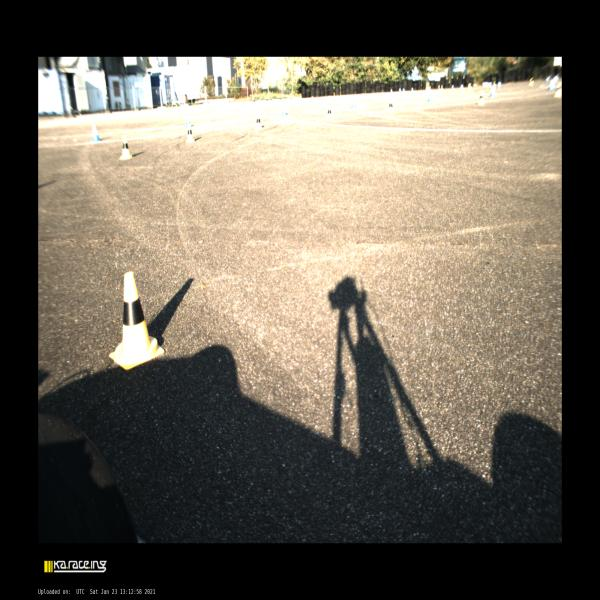blue_cone: (91, 125, 100, 141), (185, 114, 195, 128), (489, 85, 496, 97), (282, 103, 288, 116), (427, 93, 433, 102), (351, 98, 356, 108), (497, 81, 502, 88), (460, 83, 464, 91), (451, 84, 454, 90), (411, 86, 414, 92), (390, 88, 393, 94), (403, 87, 405, 93), (399, 87, 401, 93)
yellow_cone: (110, 272, 164, 370), (119, 136, 132, 159), (254, 112, 263, 130), (186, 125, 194, 143), (554, 84, 562, 98), (478, 91, 485, 105), (326, 107, 333, 120), (388, 100, 394, 113), (529, 77, 534, 86), (468, 83, 472, 90), (493, 81, 496, 88), (438, 85, 440, 91), (441, 85, 443, 90)
